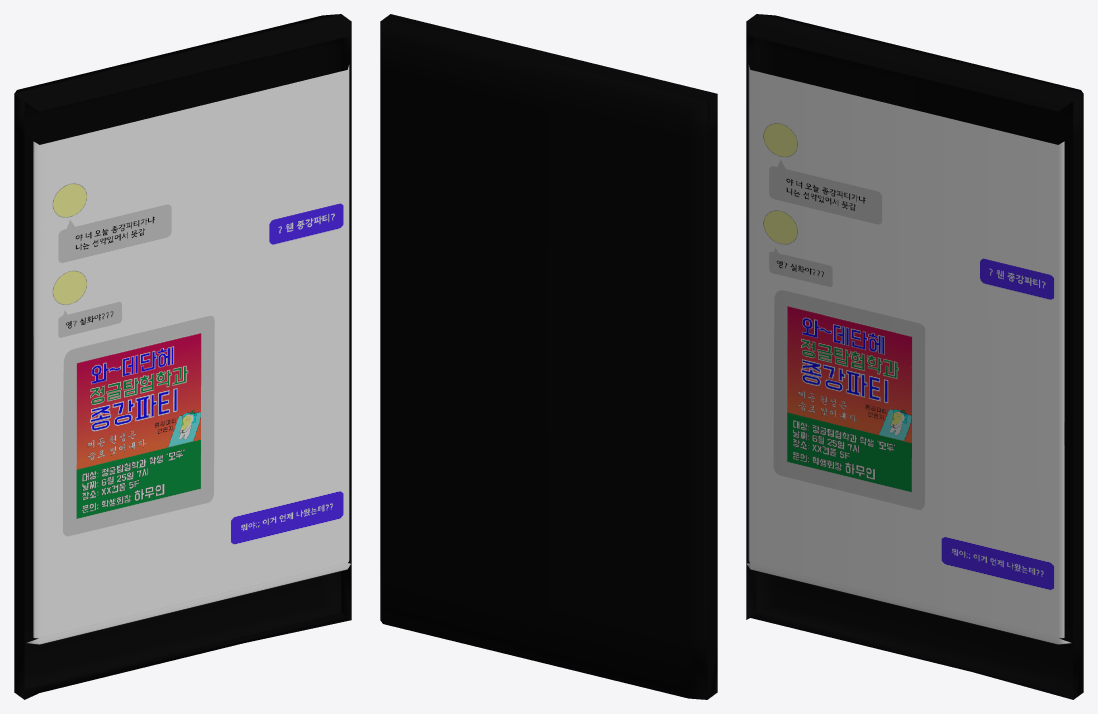
File: Phone1.fbx
The picture shows the model from 3 angles, left to right: view 1: azimuth 30°, elevation 25°; view 2: azimuth 150°, elevation 25°; view 3: azimuth 330°, elevation 25°; orthographic projection.
Visible parts, largest first — view 1: pCube2; view 2: pCube2; view 3: pCube2.
Boxes of the visible parts, <box> form: pCube2: <box>14,14,351,699</box>; pCube2: <box>380,14,717,699</box>; pCube2: <box>746,14,1083,699</box>.
Size of the model in its own units: 1.04 by 1.83 by 0.1321.
Materials: 2 (1 with a texture image).
